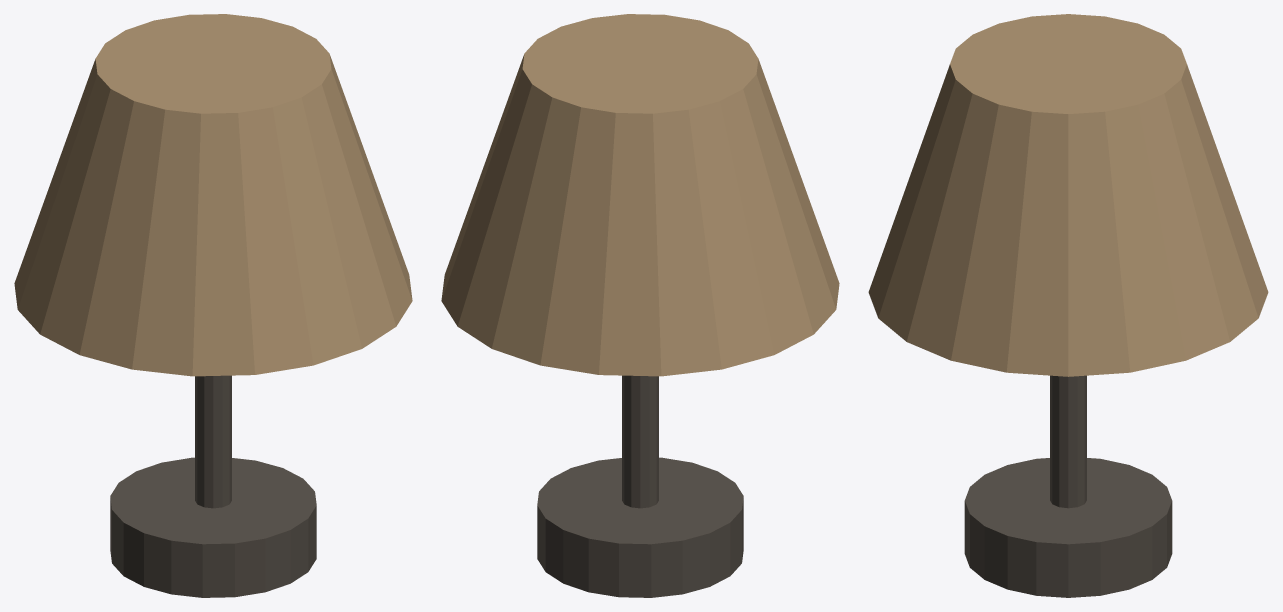
Rendered from table-lamp.glb.
3 views of the same model, side by side, from view 1: azimuth 30°, elevation 25°; view 2: azimuth 150°, elevation 25°; view 3: azimuth 270°, elevation 25° (orthographic).
Parts seen in each view (by area): view 1: SM_TableLampShade, SM_lonely_house_table_lamp_OxidizedMetal; view 2: SM_TableLampShade, SM_lonely_house_table_lamp_OxidizedMetal; view 3: SM_TableLampShade, SM_lonely_house_table_lamp_OxidizedMetal.
Boxes of the visible parts, left/top/right/bottom form: SM_TableLampShade: left=14, top=14, right=412, bottom=376; SM_lonely_house_table_lamp_OxidizedMetal: left=110, top=375, right=316, bottom=597; SM_TableLampShade: left=441, top=14, right=839, bottom=376; SM_lonely_house_table_lamp_OxidizedMetal: left=537, top=375, right=743, bottom=597; SM_TableLampShade: left=868, top=14, right=1268, bottom=376; SM_lonely_house_table_lamp_OxidizedMetal: left=964, top=375, right=1172, bottom=597.
Bounding box in the file's own units: 0.54 × 0.73 × 0.54.
